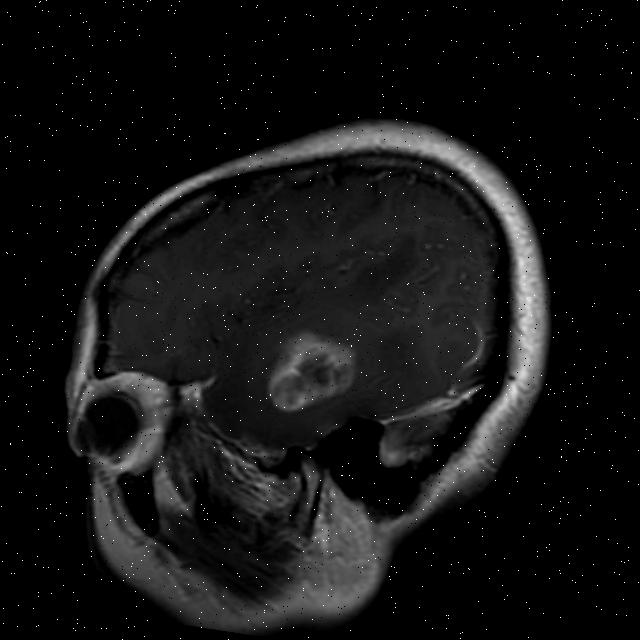Glioma: (261, 323, 365, 421)
